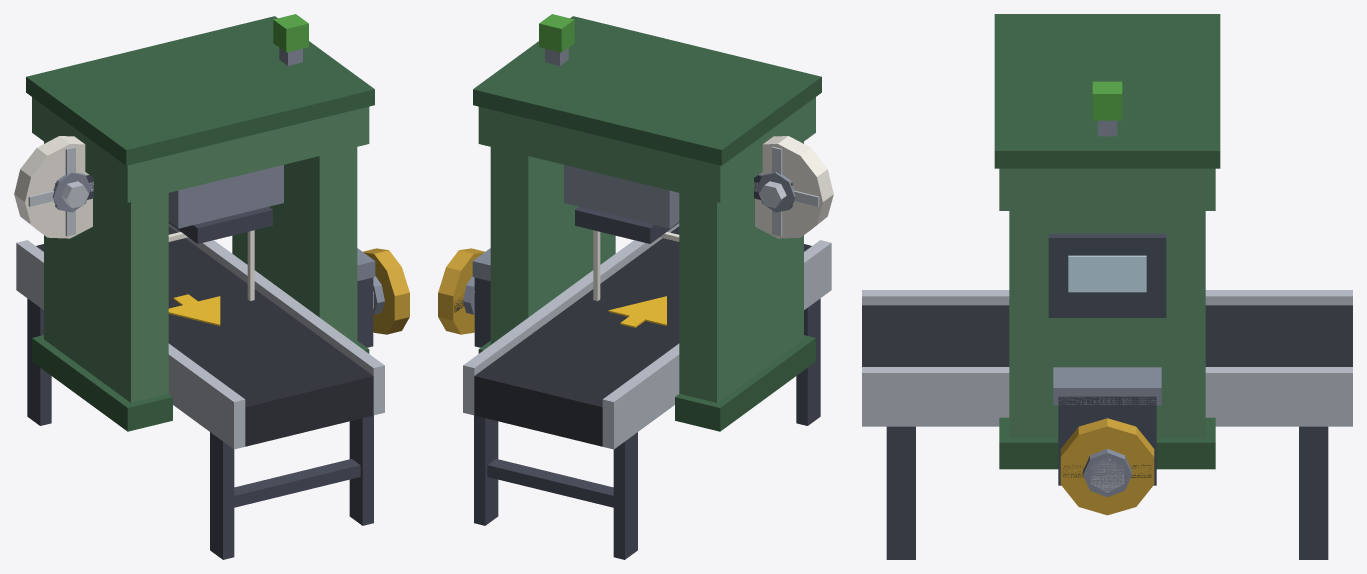
The model's file is strapper.glb.
3 renders of one model, left to right at view 1: azimuth 30°, elevation 25°; view 2: azimuth 150°, elevation 25°; view 3: azimuth 270°, elevation 25°, orthographic. The views are drawn at different scales.
Parts seen in each view (by area): view 1: strapper, slide-up, spin-y, spin-x; view 2: strapper, slide-up, spin-y, spin-x; view 3: strapper, spin-x.
Boxes of the visible parts, box(x1,y1,x2,y2) form: strapper: box(16, 14, 384, 559); slide-up: box(168, 165, 283, 243); spin-y: box(14, 136, 93, 238); spin-x: box(363, 248, 409, 334); strapper: box(463, 14, 831, 559); slide-up: box(564, 165, 679, 243); spin-y: box(754, 136, 833, 238); spin-x: box(438, 248, 484, 334); strapper: box(862, 14, 1352, 559); spin-x: box(1060, 418, 1154, 515).
Size of the model in its own units: 1 by 1.08 by 1.
4 materials, 4 textured.
